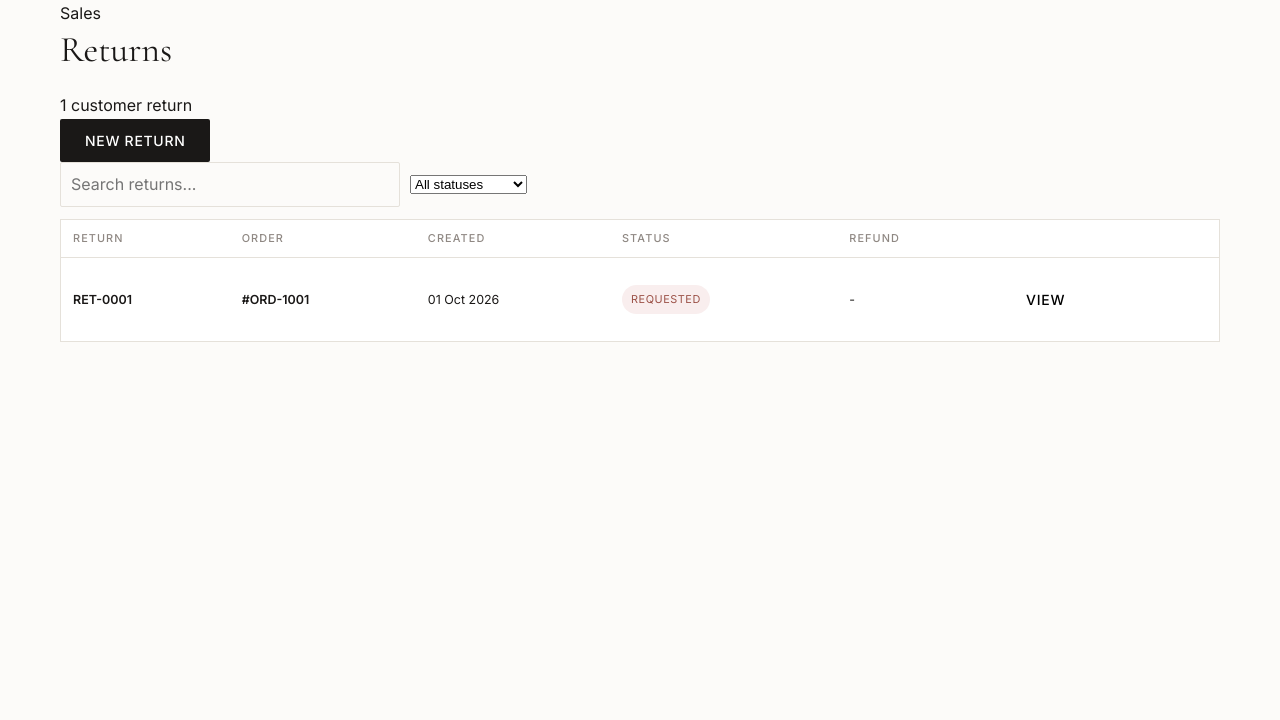
Test: Returns admin page › confirms inspection via same-status PATCH and reports stock restoration
Expected: the text "RET-0001" is shown, [73, 292, 132, 307]
Click the button "View" at point(1046, 300), box [1001, 278, 1090, 321]
(page scrolled)
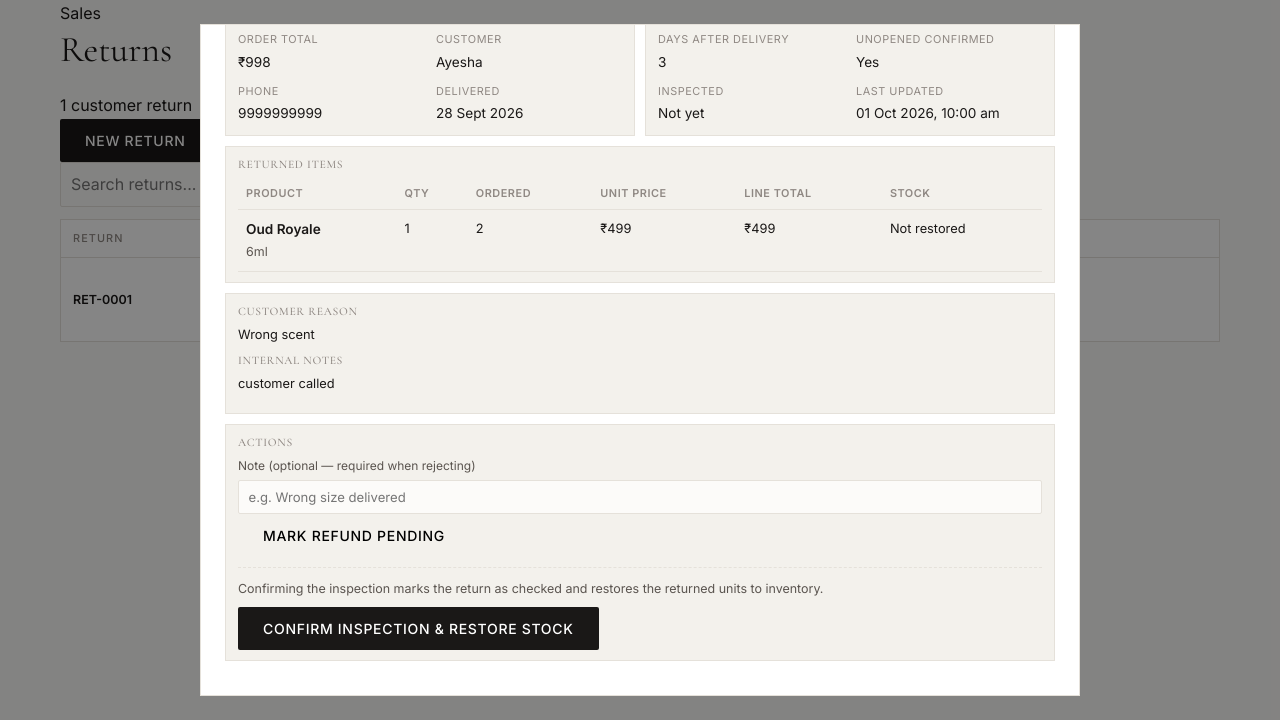
Now the dialog is shown
Now the button "Confirm inspection & restore stock" is shown
Click the button "Confirm inspection & restore stock" at point(418, 629), box [238, 607, 598, 650]
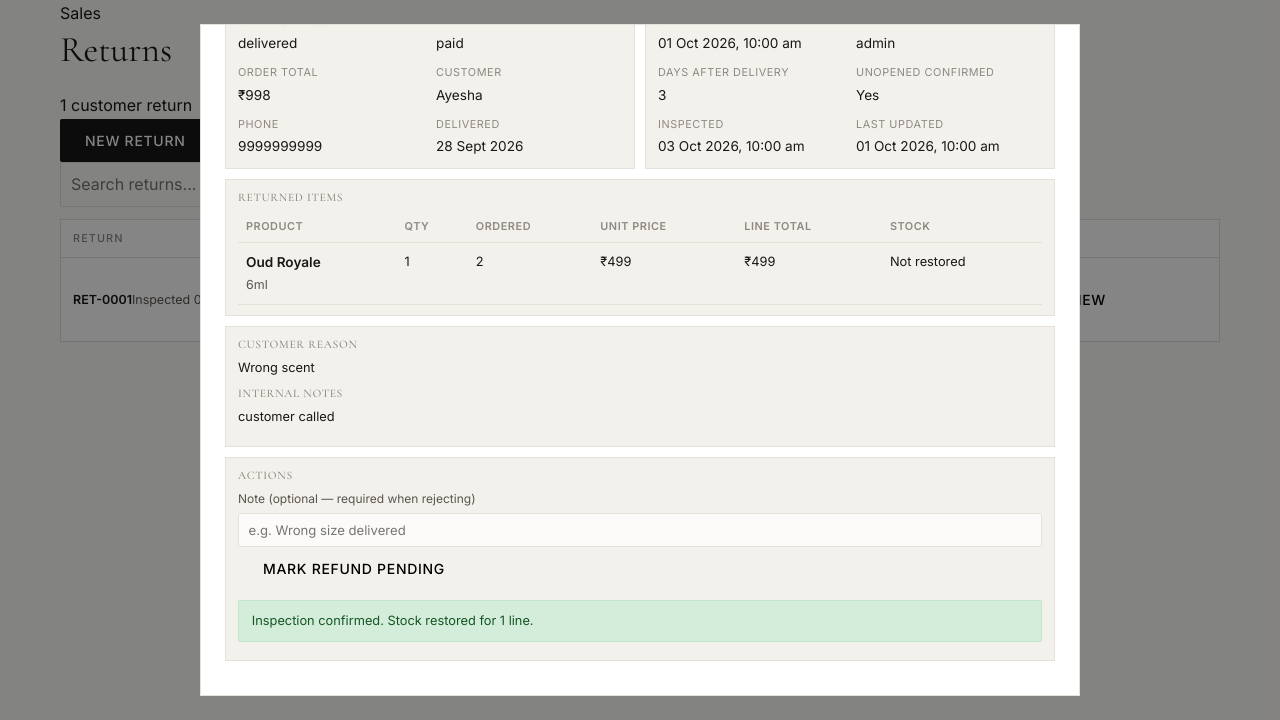
Now the text "Inspection confirmed. Stock restored for 1 line." is shown, box [238, 600, 1042, 642]
Now the text "Inspected 03 Oct 2026" is shown, box [132, 292, 268, 307]
